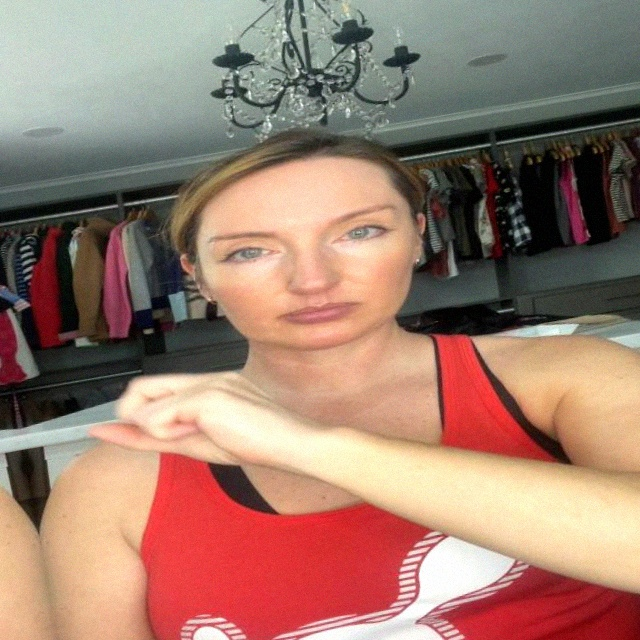Rock: (89, 352, 308, 507)
